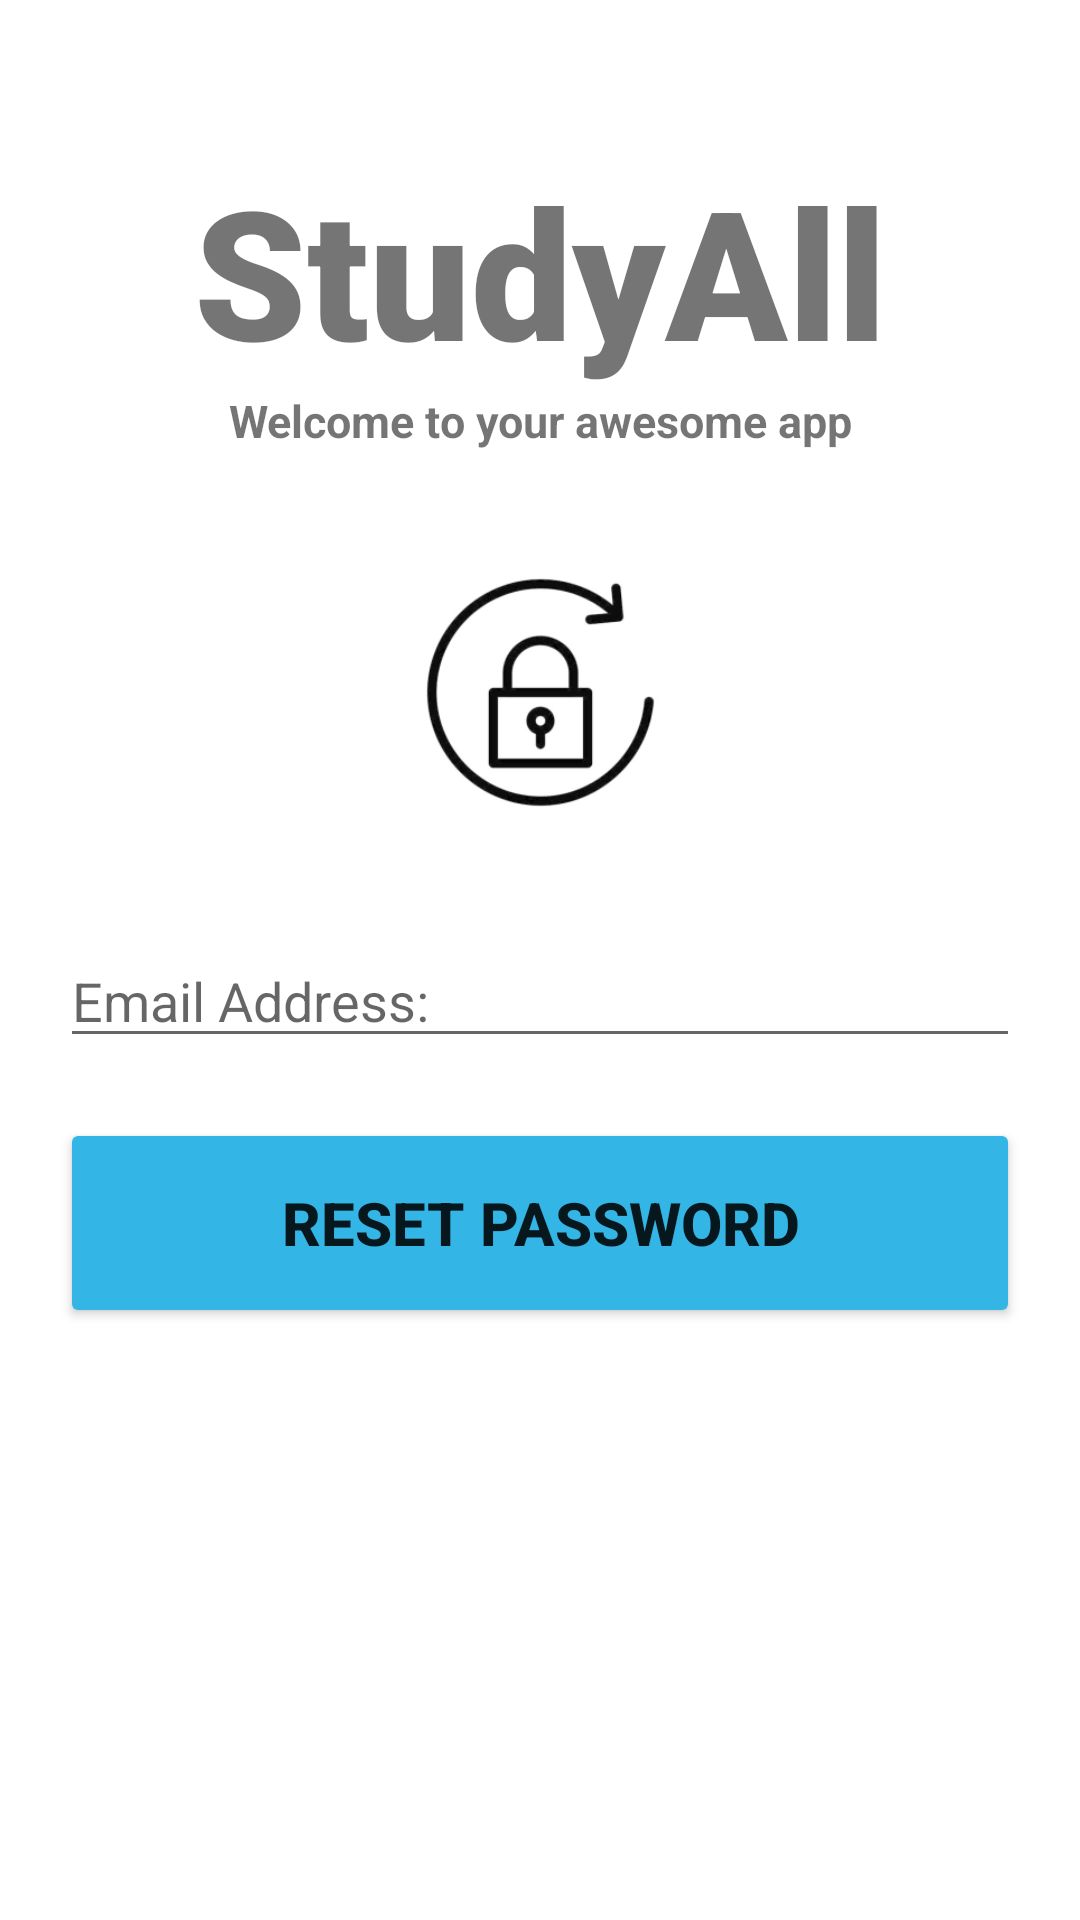

Where icons sit on this 1080×1920 app screen, as [x1, y1, x2, y2]:
resetpaaasssss: [427, 579, 654, 806]
